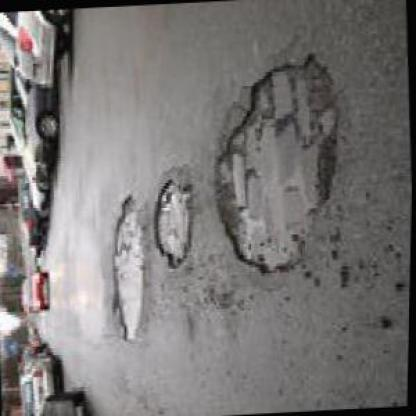pothole: (201, 40, 356, 282), (106, 187, 152, 345), (151, 172, 197, 270)
